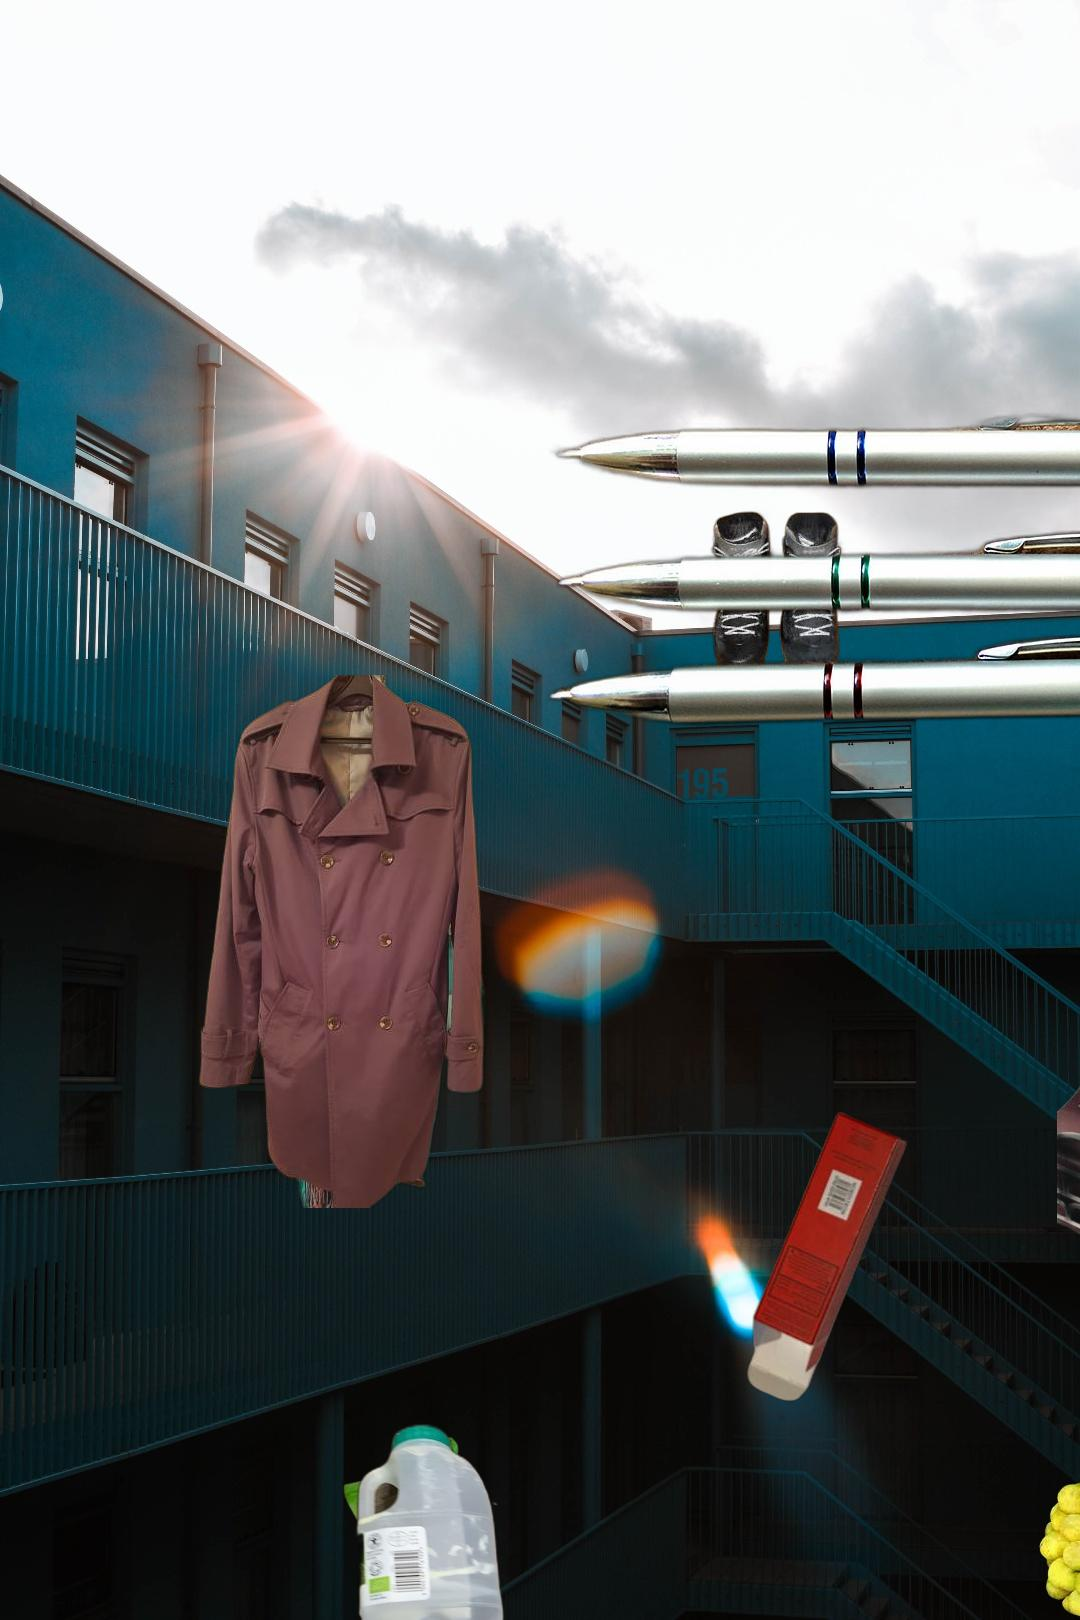biological: (1035, 1461, 1080, 1620)
clothes: (196, 675, 491, 1208)
paper: (742, 1108, 912, 1404), (1057, 891, 1080, 1275)
penholder: (542, 400, 1080, 732)
plastic-bag: (341, 1434, 501, 1560)
plastic-bottles: (352, 1417, 507, 1620)
shoes: (709, 507, 849, 692)
